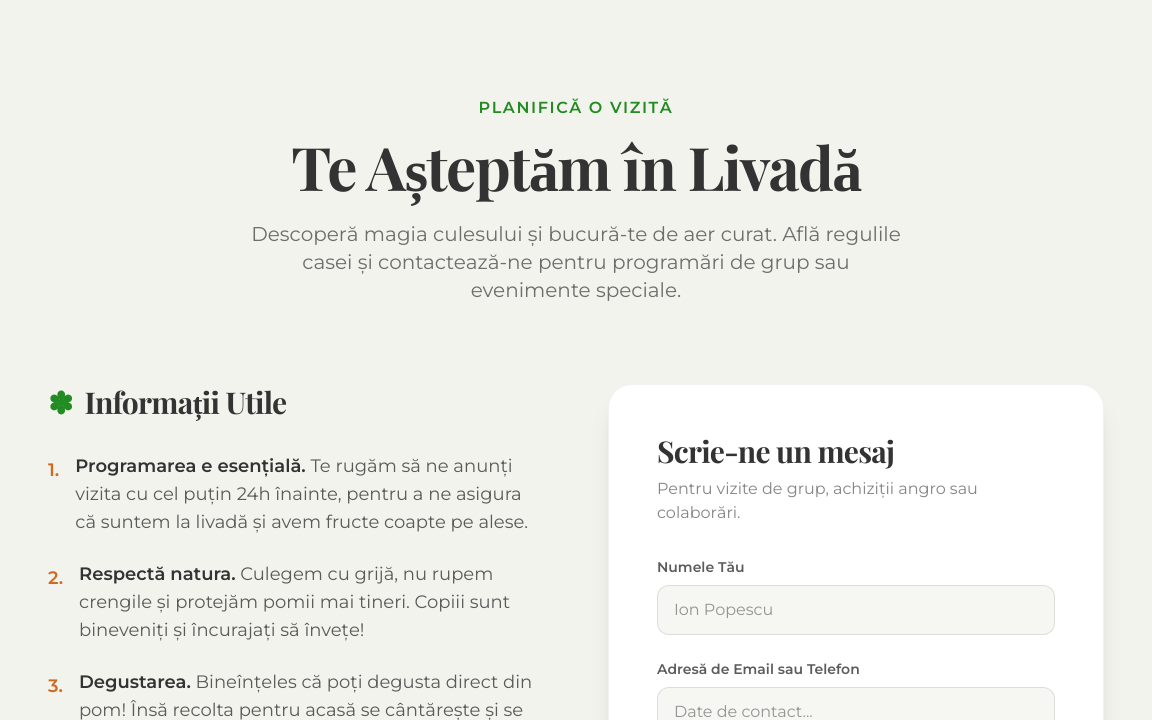
Test: Livada Stăuini App & Anti-Bot Protections › BookingContact blocks instant automated submission without calling fetch
This screenshot has width=1152, height=720.
In the field labelled "Numele Tău": x=856, y=610 x1=657 y1=585 x2=1055 y2=635, type "Fast Bot"
(page scrolled)
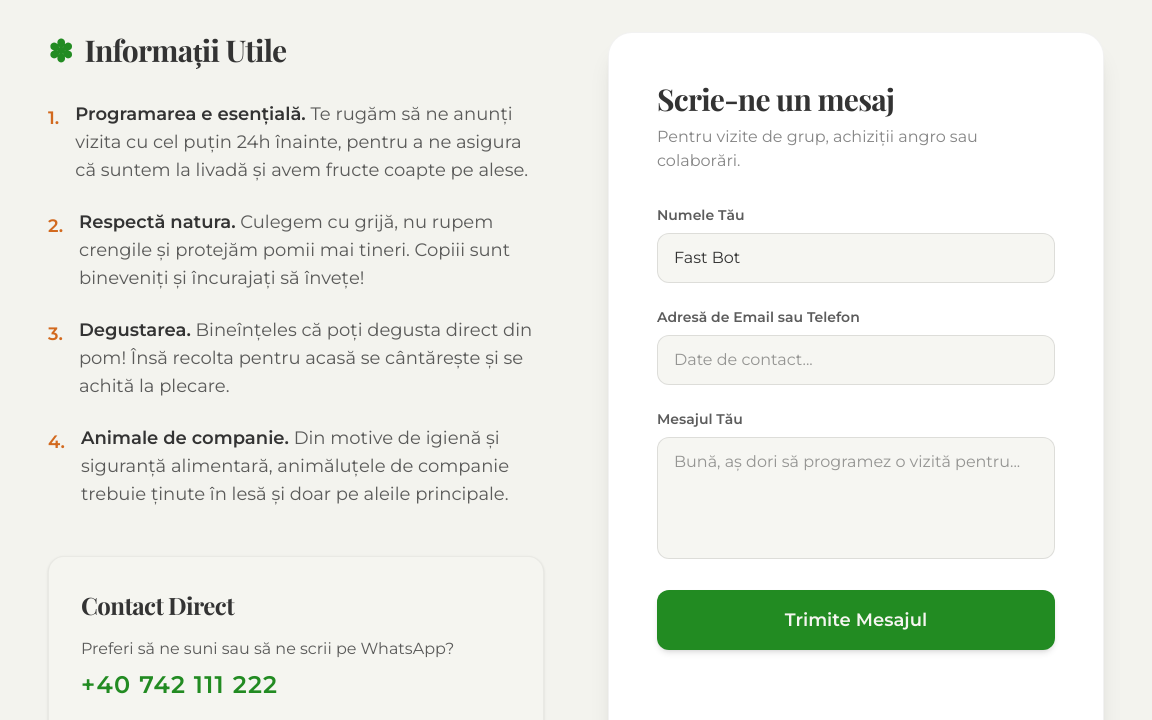
In the field labelled "Adresă de Email sau Telefon": x=856, y=360 x1=657 y1=335 x2=1055 y2=385, type "fast@example.com"
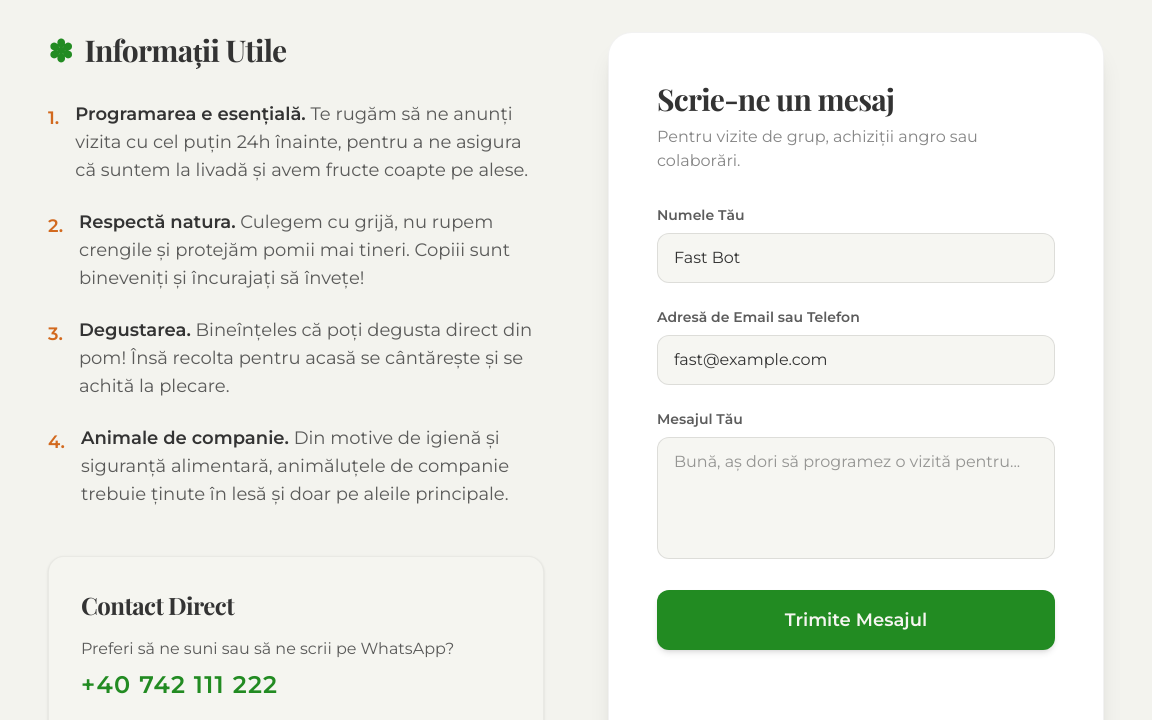
In the text box labelled "Mesajul Tău": x=856, y=498 x1=657 y1=437 x2=1055 y2=559, type "Instant submit"
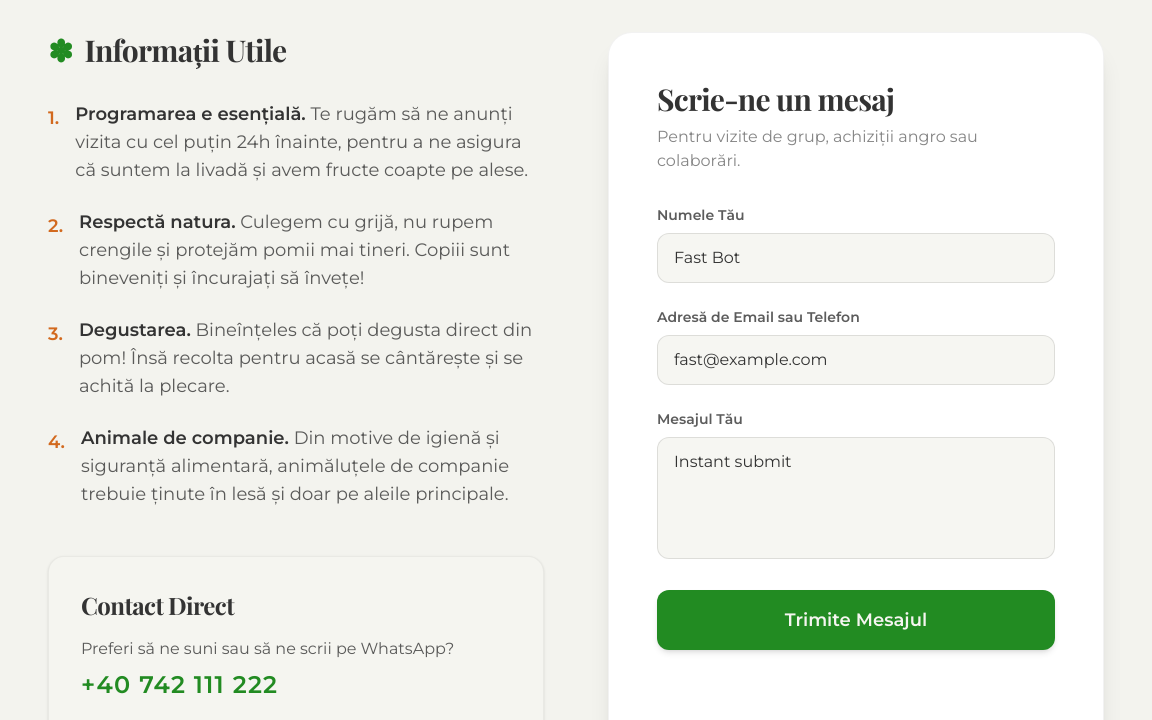
Click the button "Trimite Mesajul": x=856, y=620 x1=657 y1=590 x2=1055 y2=650
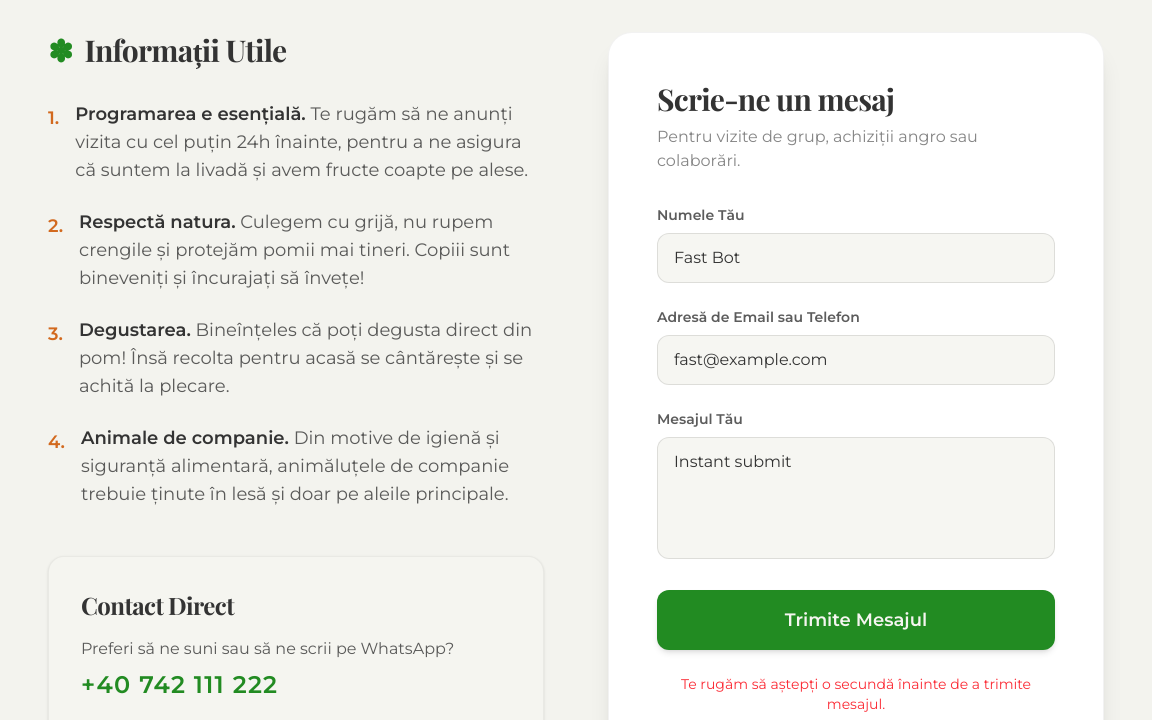
Check: the message shows "aștepți o secundă", box x1=681 y1=675 x2=1031 y2=713
